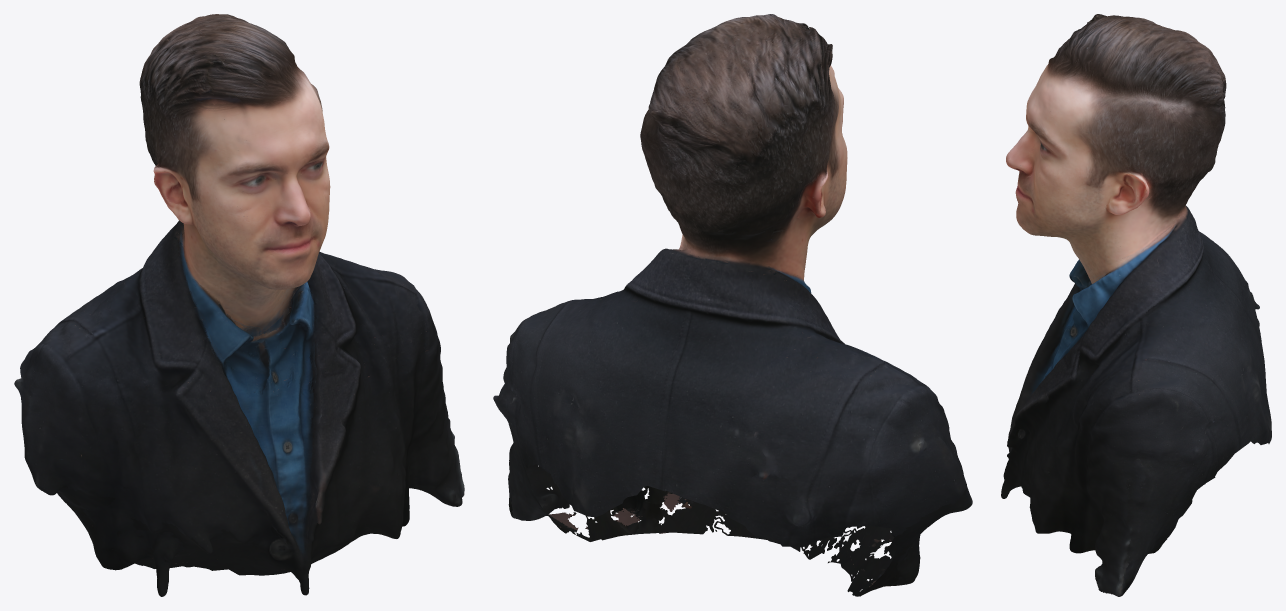
The model's file is eddy.glb.
The picture shows the model from 3 angles, left to right: view 1: azimuth 30°, elevation 25°; view 2: azimuth 150°, elevation 25°; view 3: azimuth 270°, elevation 25°; orthographic projection. The views are drawn at different scales.
Parts seen in each view (by area): view 1: Textured_Mesh_1; view 2: Textured_Mesh_1; view 3: Textured_Mesh_1.
Part boxes in pixels (<box>): Textured_Mesh_1: <box>14,14,464,596</box>; Textured_Mesh_1: <box>493,14,972,596</box>; Textured_Mesh_1: <box>1001,14,1271,596</box>.
Size of the model in its own units: 0.5869 by 0.6751 by 0.3514.
1 material, 1 textured.
